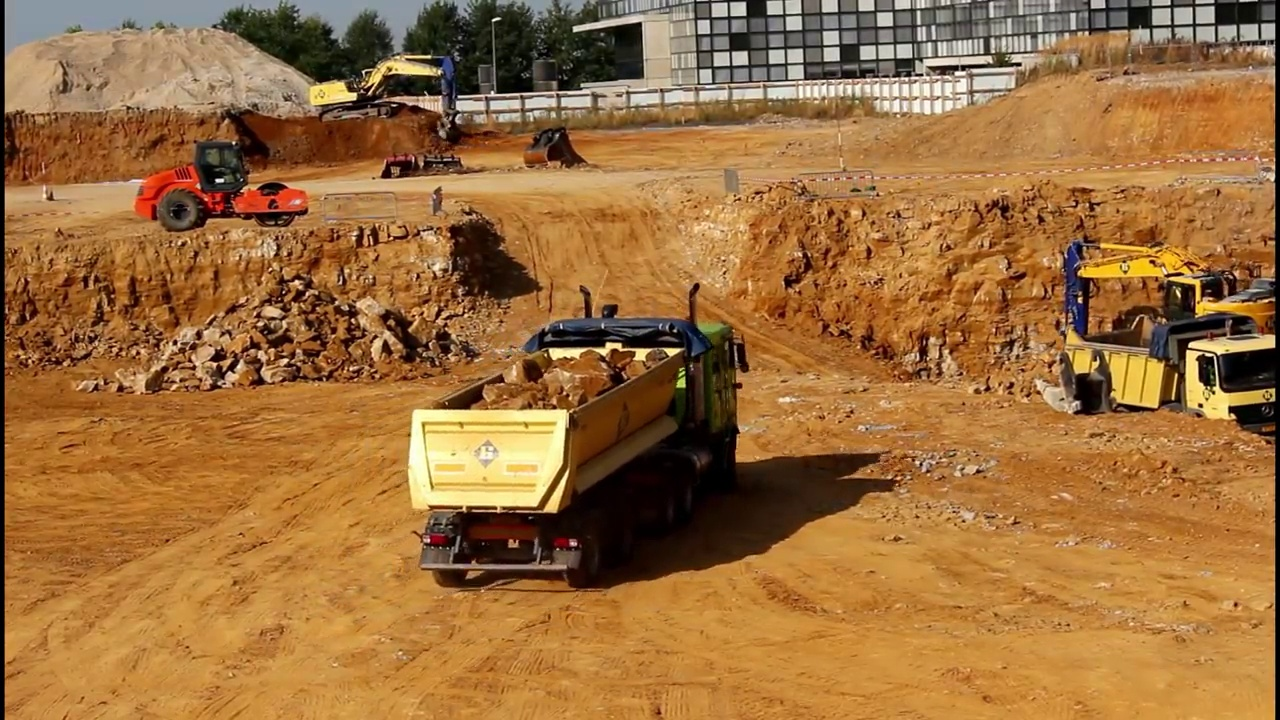compactor: (133, 141, 312, 233)
excavator: (1046, 231, 1280, 397), (307, 48, 462, 148)
truck: (407, 283, 751, 595), (1060, 313, 1280, 449)
